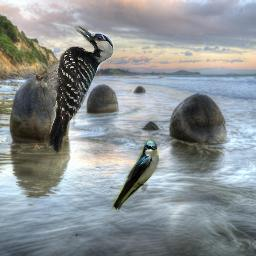Swallow: (111, 139, 159, 213)
Woodpecker: (36, 26, 115, 154)
